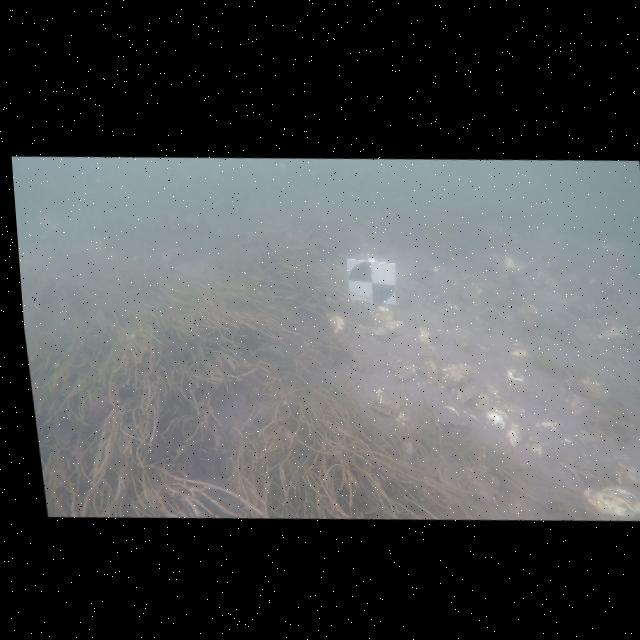Oyster-Closed: (583, 487, 640, 519), (376, 386, 403, 413), (445, 364, 476, 387), (421, 356, 438, 385), (395, 361, 417, 381)
Oyster-Indeterminate: (327, 314, 352, 336), (527, 435, 547, 459), (486, 409, 509, 429), (417, 321, 436, 345), (451, 387, 477, 404), (506, 424, 523, 446), (370, 307, 393, 323), (484, 385, 503, 399), (536, 422, 562, 432), (396, 411, 408, 428), (504, 404, 524, 414)
Oyster-Open: (367, 320, 405, 343), (433, 330, 443, 346)
